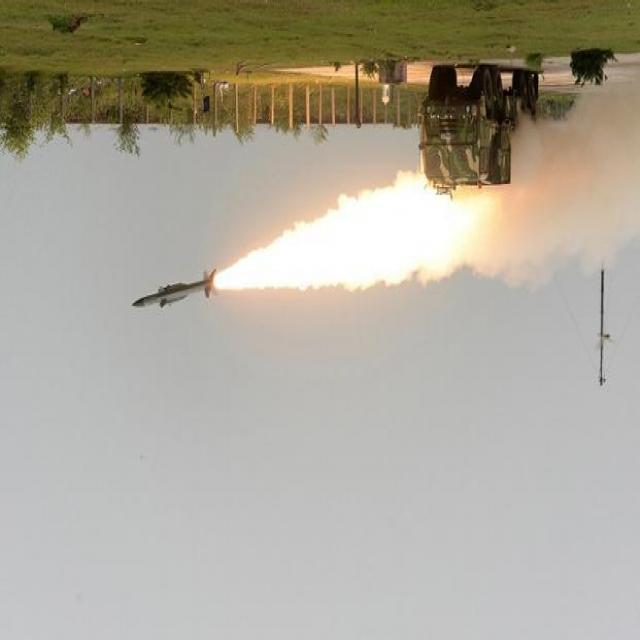missile: (132, 271, 216, 311)
